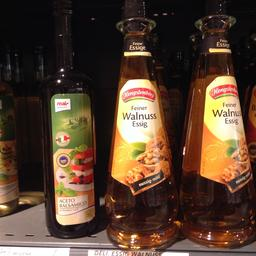vinegar: (106, 7, 180, 248), (183, 10, 255, 244), (33, 33, 103, 239)
